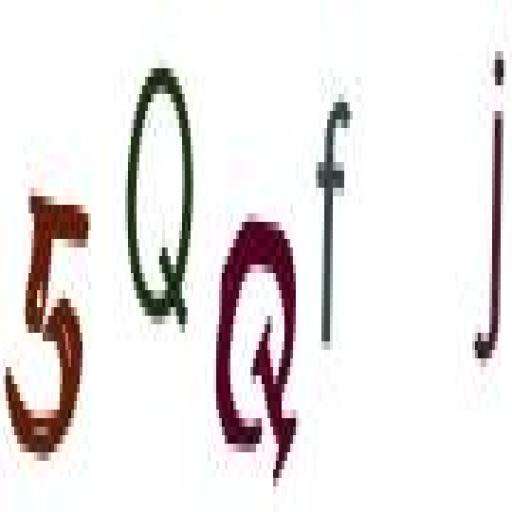5: (1, 167, 95, 480)
Q: (209, 186, 304, 503), (120, 46, 198, 346)
f: (313, 78, 356, 380)
j: (462, 35, 512, 391)
